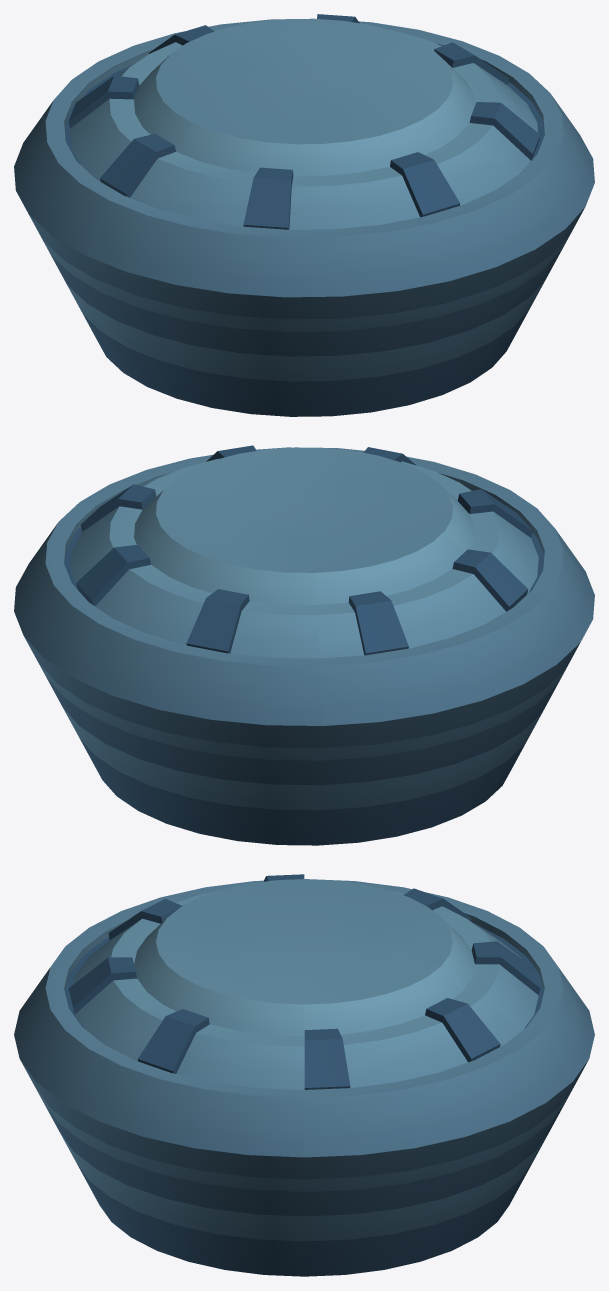
Rendered from Platform_01.fbx.
3 renders of one model, top to bottom at view 1: azimuth 30°, elevation 25°; view 2: azimuth 150°, elevation 25°; view 3: azimuth 270°, elevation 25°, orthographic.
Parts seen in each view (by area): view 1: Platform; view 2: Platform; view 3: Platform.
Part boxes in pixels (left/top/right/bottom): Platform: left=14, top=14, right=594, bottom=416; Platform: left=14, top=445, right=594, bottom=845; Platform: left=14, top=874, right=594, bottom=1276.
Size of the model in its own units: 200 by 93.68 by 200.
